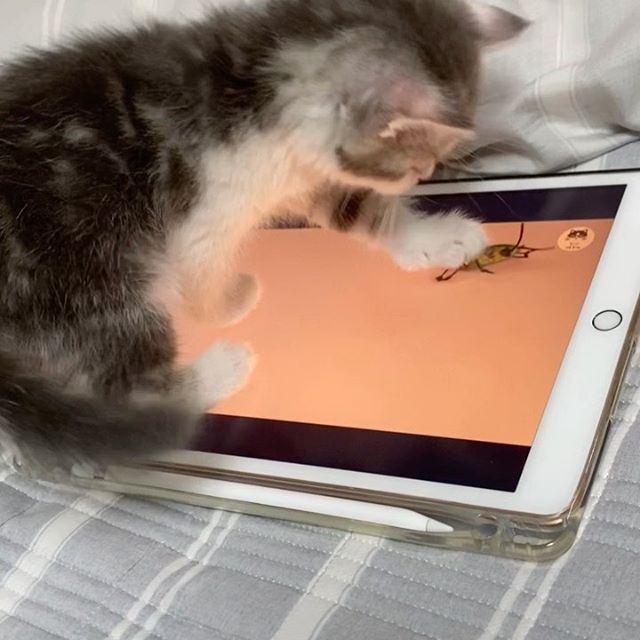cat: (309, 1, 536, 198)
